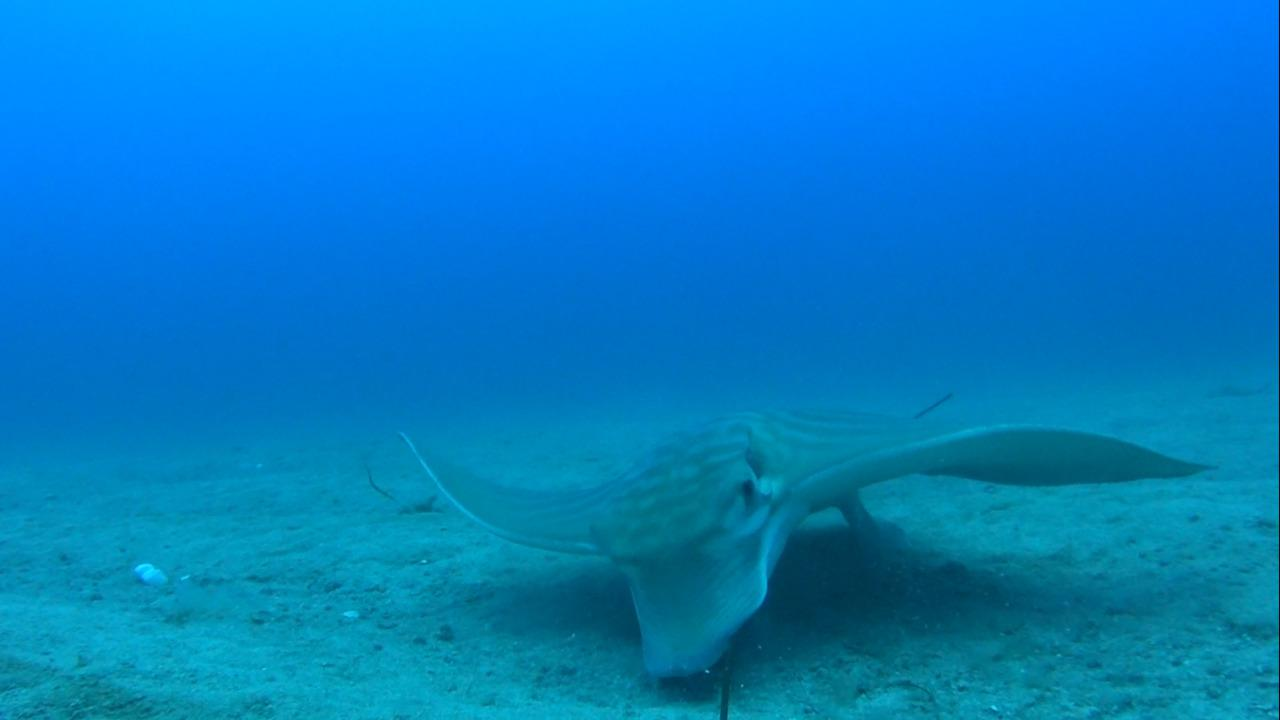myliobatis: (389, 380, 1220, 699)
